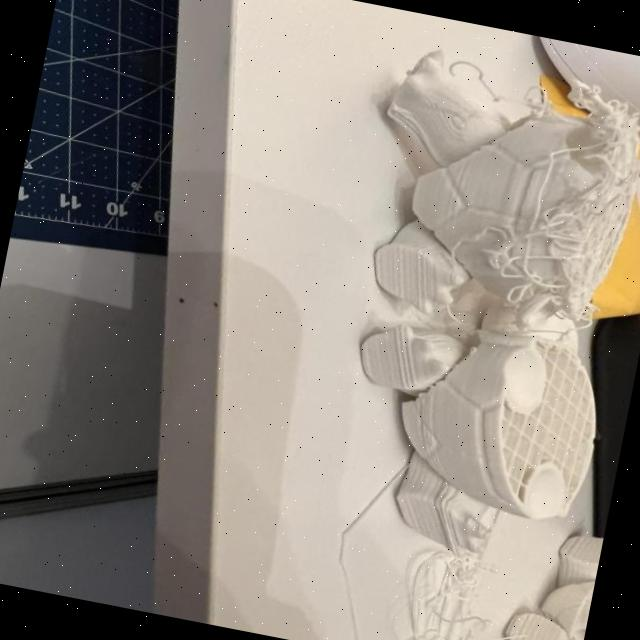spaghetti: (442, 56, 640, 357), (360, 539, 510, 640)
